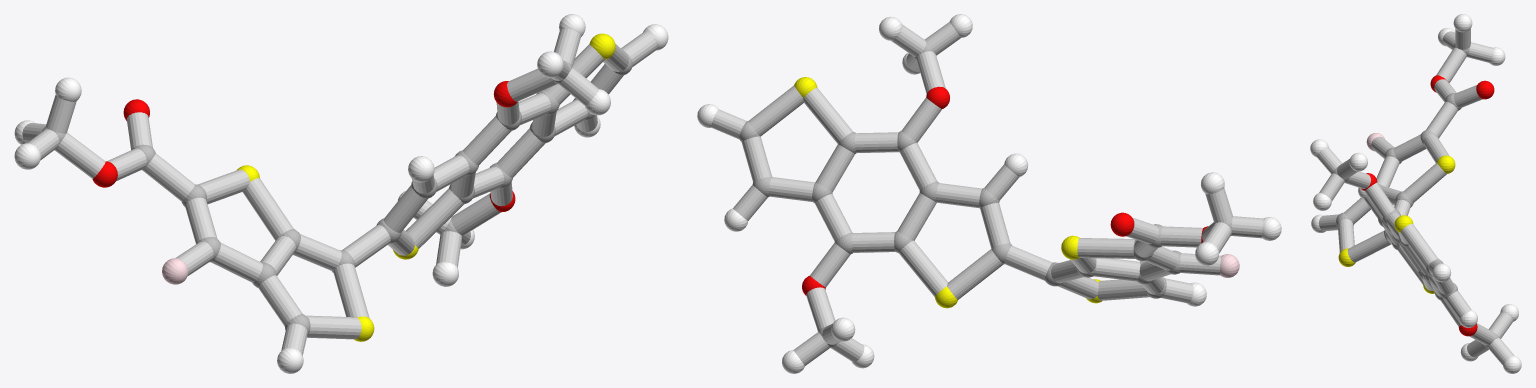
The model's file is Dimethoxy_Benzodithiophene_Phi_20_Theta_260_Methylcarbonyl_3_Fluoro_Thienothiophene.glb.
The picture shows the model from 3 angles, left to right: view 1: azimuth 30°, elevation 25°; view 2: azimuth 150°, elevation 25°; view 3: azimuth 270°, elevation 25°; orthographic projection. The views are drawn at different scales.
Visible parts, largest first — view 1: grp15205, grp8689, grp1, grp13395, grp7241, grp14843; view 2: grp15205, grp8689, grp1, grp13395, grp7241; view 3: grp15205, grp8689, grp1, grp7241, grp13395.
Part boxes in pixels (box(x1,y1,x2,y2)): grp15205: box(22, 28, 657, 355); grp8689: box(14, 14, 668, 373); grp1: box(42, 50, 632, 335); grp13395: box(92, 81, 517, 212); grp7241: box(236, 33, 615, 341); grp14843: box(162, 258, 188, 284); grp15205: box(711, 21, 1263, 365); grp8689: box(697, 14, 1281, 373); grp1: box(739, 43, 1232, 347); grp13395: box(802, 86, 1207, 295); grp7241: box(794, 77, 1101, 308); grp15205: box(1316, 28, 1514, 364); grp8689: box(1310, 14, 1521, 373); grp1: box(1332, 43, 1499, 347); grp7241: box(1338, 155, 1455, 293); grp13395: box(1361, 75, 1494, 336).
Bounding box in the file's own units: 16.82 × 7.88 × 6.76.
